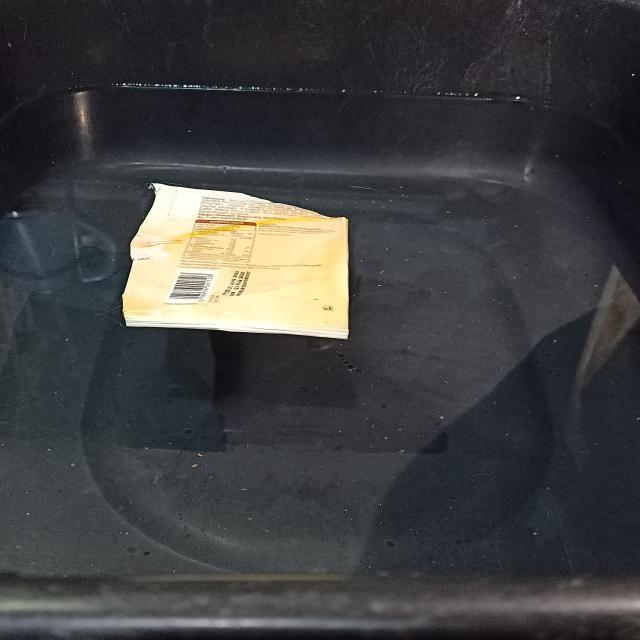Plastic Wrapper: (122, 183, 349, 340)
